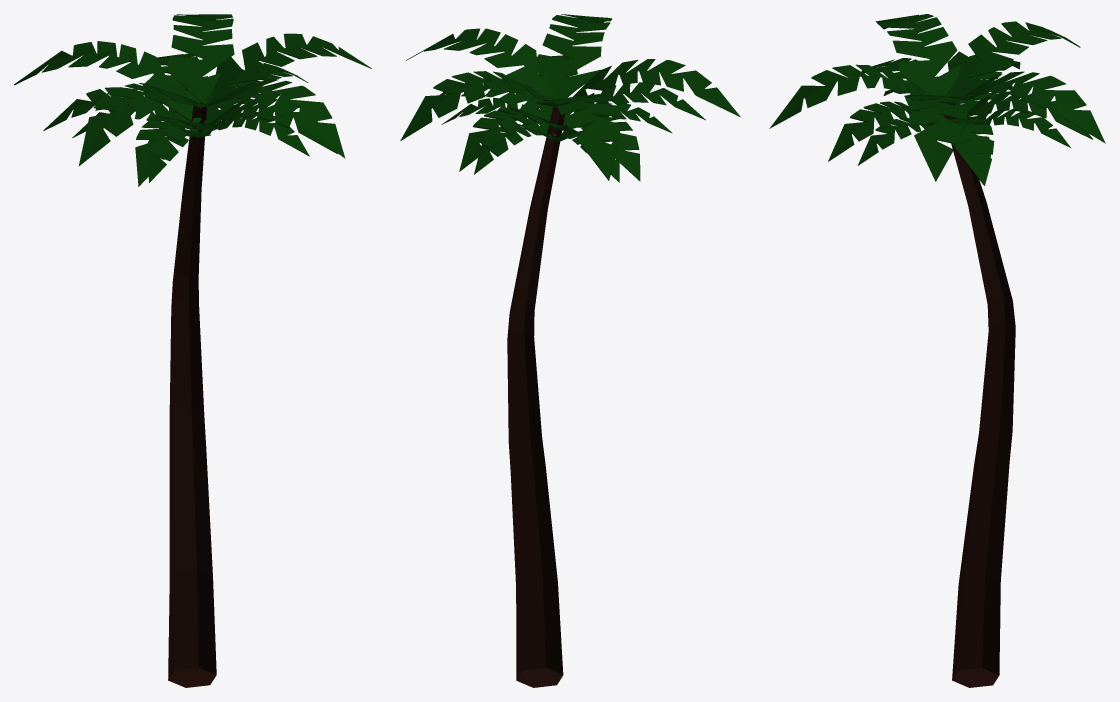
File: palm.obj
3 views of the same model, side by side, from view 1: azimuth 30°, elevation 25°; view 2: azimuth 150°, elevation 25°; view 3: azimuth 270°, elevation 25° (orthographic). The views are drawn at different scales.
Parts seen in each view (by area): view 1: Cylinder.001_Material.001_0, Cylinder.001_palmeira_0; view 2: Cylinder.001_Material.001_0, Cylinder.001_palmeira_0; view 3: Cylinder.001_Material.001_0, Cylinder.001_palmeira_0.
Boxes of the visible parts, box(x1,y1,x2,y2) form: Cylinder.001_Material.001_0: box(14, 14, 371, 186); Cylinder.001_palmeira_0: box(168, 102, 216, 687); Cylinder.001_Material.001_0: box(400, 14, 740, 182); Cylinder.001_palmeira_0: box(507, 107, 565, 687); Cylinder.001_Material.001_0: box(769, 14, 1105, 185); Cylinder.001_palmeira_0: box(943, 104, 1015, 687).
Size of the model in its own units: 22.88 by 42.77 by 21.3.
